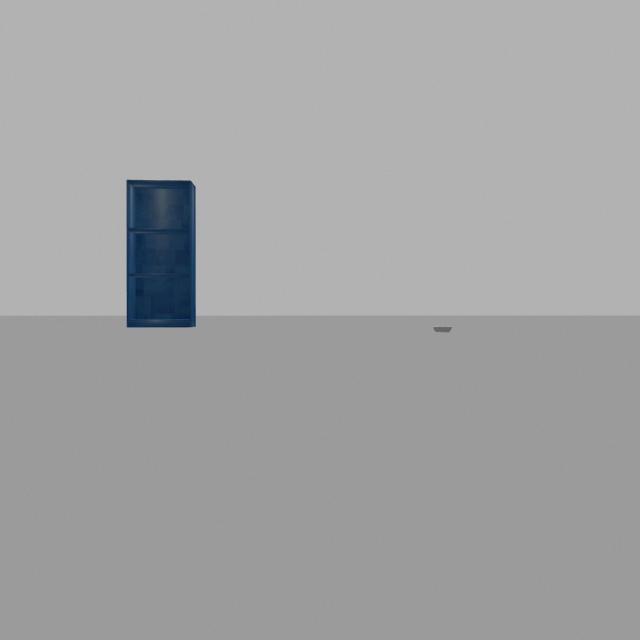bowl: (426, 317, 462, 349)
shelf: (117, 165, 203, 339)
